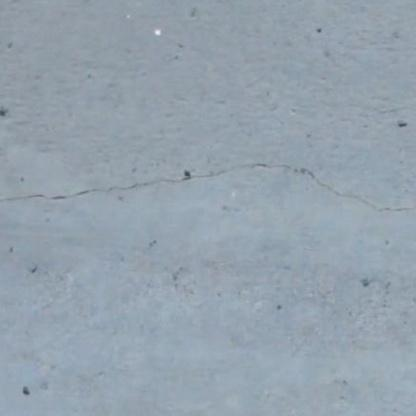Cracks: (0, 156, 416, 229)
